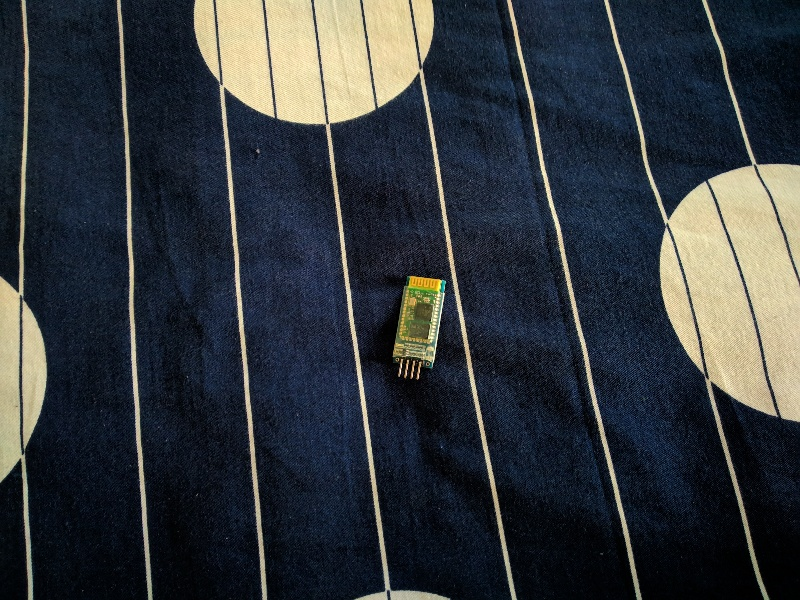HC-05: (390, 268, 450, 371)
